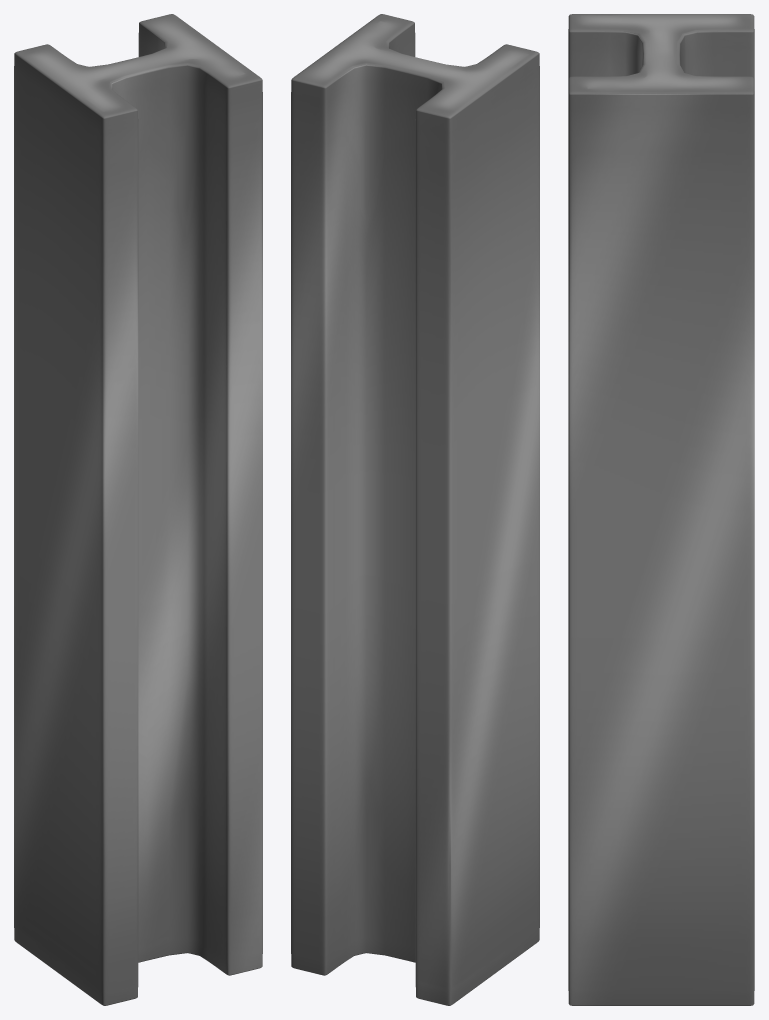
File: Piller_Steel.fbx
3 views of the same model, side by side, from view 1: azimuth 30°, elevation 25°; view 2: azimuth 150°, elevation 25°; view 3: azimuth 270°, elevation 25° (orthographic). The views are drawn at different scales.
Parts seen in each view (by area): view 1: pCube4; view 2: pCube4; view 3: pCube4.
Part boxes in pixels (box(x1,y1,x2,y2)): pCube4: box(14, 14, 262, 1005); pCube4: box(291, 14, 539, 1005); pCube4: box(568, 14, 754, 1005).
Bounding box in the file's own units: 0.1581 × 0.8359 × 0.1545.
Materials: 1 (1 with a texture image).
